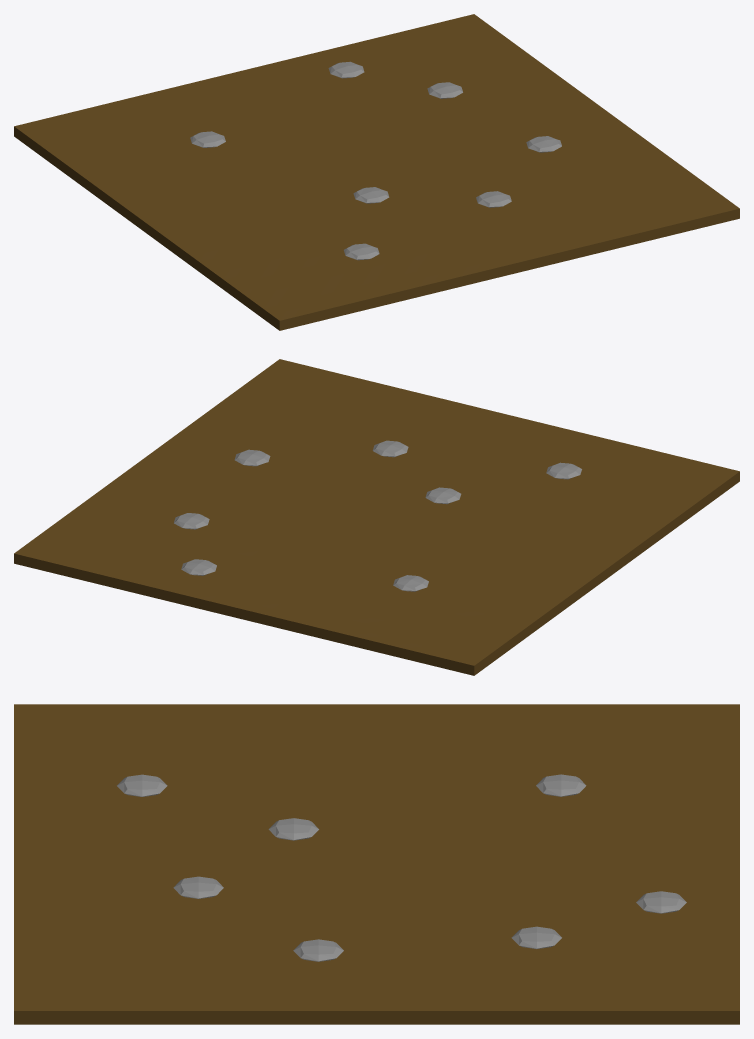
File: DCMfloor2.glb
The picture shows the model from 3 angles, top to bottom: view 1: azimuth 30°, elevation 25°; view 2: azimuth 150°, elevation 25°; view 3: azimuth 270°, elevation 25°; orthographic projection. The views are drawn at different scales.
Visible parts, largest first — view 1: Floor; view 2: Floor; view 3: Floor, Rock 3, Rock, Rock 5, Rock 6, Rock 1, Rock 2, Rock 4.
Boxes of the visible parts, x1,y1,x2,y2 form: Floor: (14,14,739,330); Floor: (14,359,739,675); Floor: (14,704,739,1024); Rock 3: (268,818,318,840); Rock: (173,876,223,898); Rock 5: (536,774,586,796); Rock 6: (293,939,343,961); Rock 1: (117,774,167,796); Rock 2: (511,926,561,948); Rock 4: (636,891,686,913).
Bounding box in the file's own units: 1 × 0.0353 × 1.
